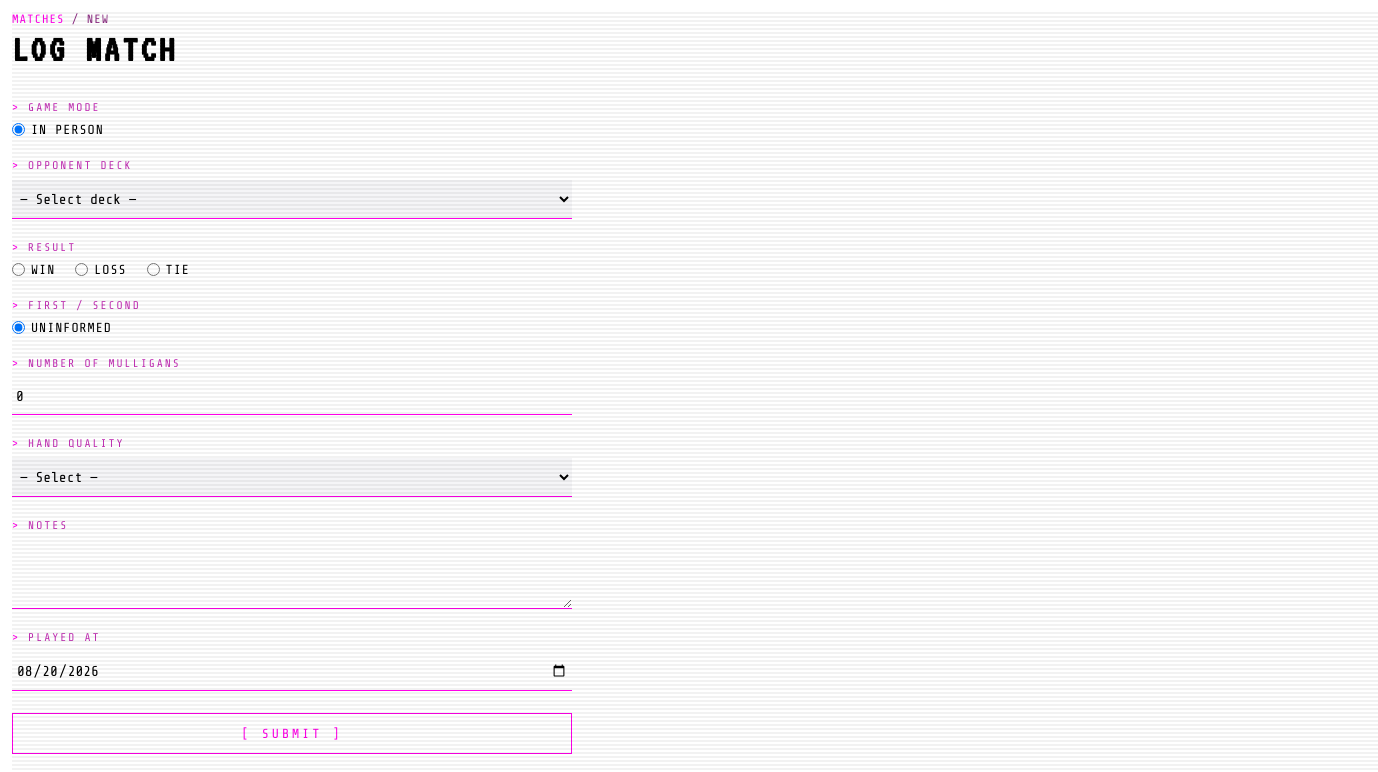
Scenario: MatchForm › shows the defeat reason only after selecting a loss result
Expected: the heading "Log Match" is shown, [12,30,177,69]
Expected: the text "Reason for Defeat" is not shown
// Selecting LOSS reveals it.
Click the radio button labelled "LOSS" at (82, 270), box [75,263,88,276]
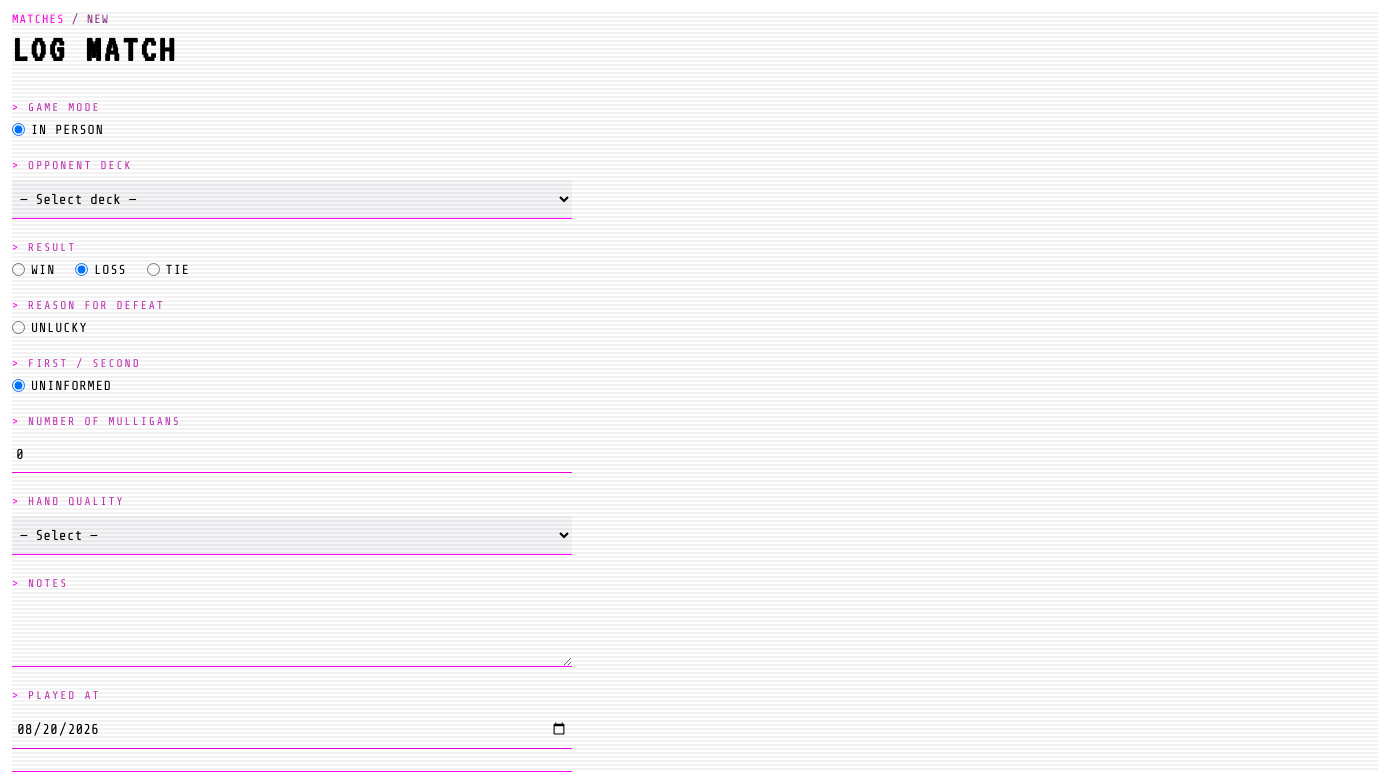
Result: the text "Reason for Defeat" is shown at [28,299,165,312]
// Switching back to WIN hides it again.
Click the radio button labelled "WIN" at (18, 270), box [12,263,25,276]
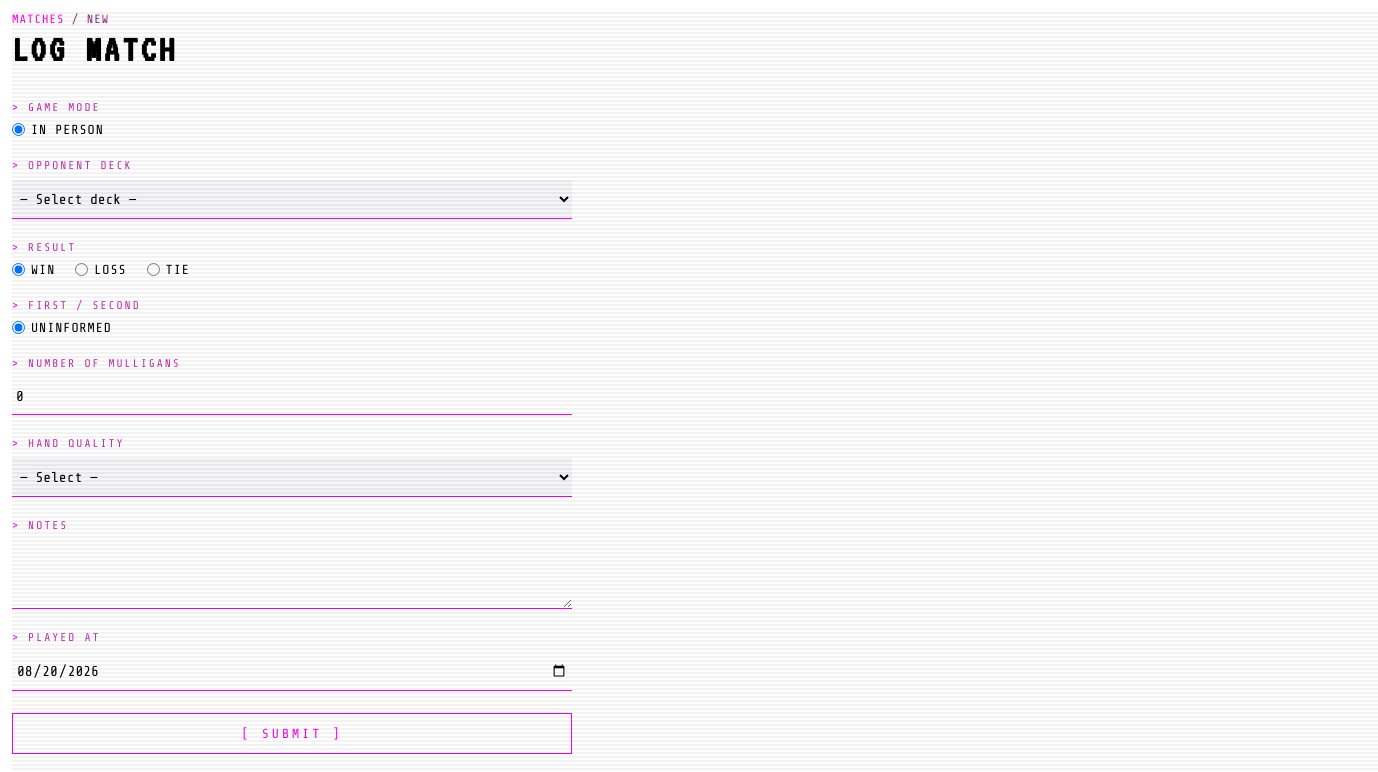
Result: the text "Reason for Defeat" is gone
